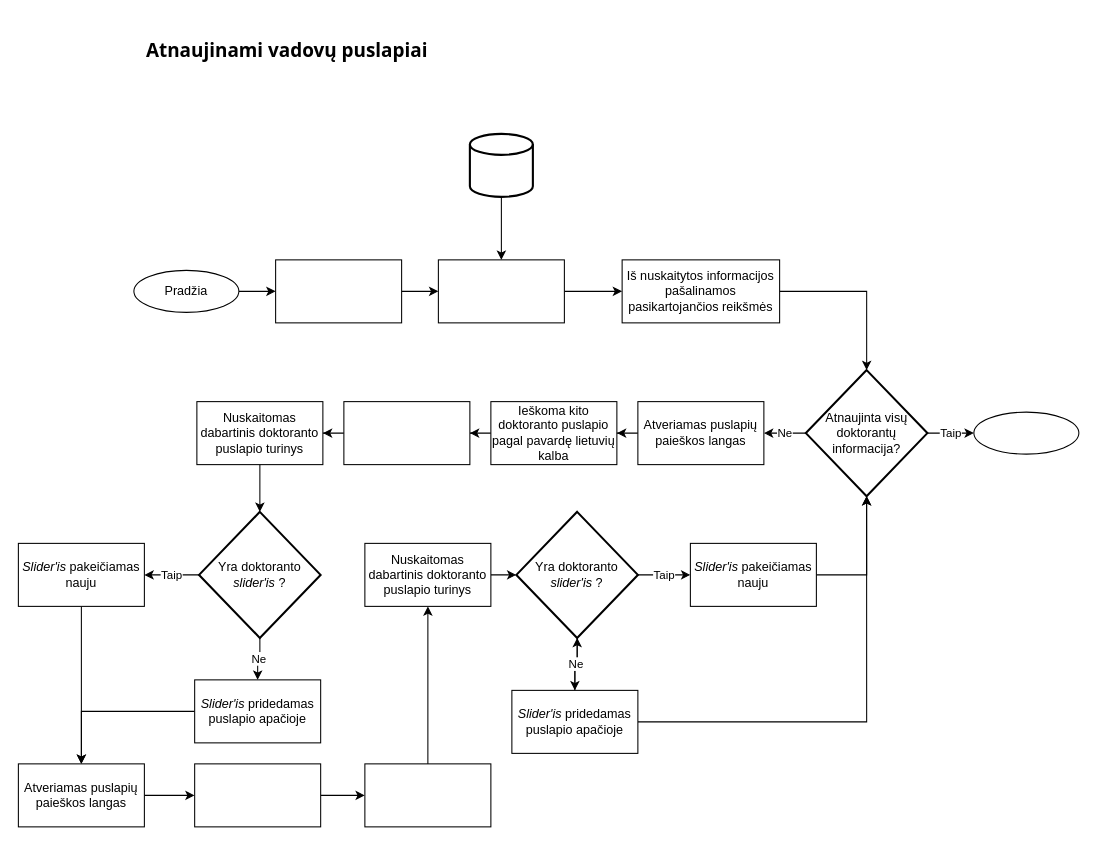
Some shapes in this 1097 by 845 pixel diagram are drawn without their labels. Each missing label, with the box of its shape:
Atveriamas doktoranto angliško puslapio kodo redagavimo langas: (364, 763, 491, 827)
Atveriamas doktoranto lietuviško puslapio kodo redagavimo langas: (343, 401, 470, 465)
Ieškoma kito doktoranto puslapio pagal pavardę anglų kalba: (194, 763, 321, 827)
Nuskaitoma lietuviška ir angliška vadovų informacija: (437, 259, 564, 323)
Pabaiga: (973, 411, 1079, 454)
Sugeneruojama informacija "Vadovas": (275, 259, 402, 323)
